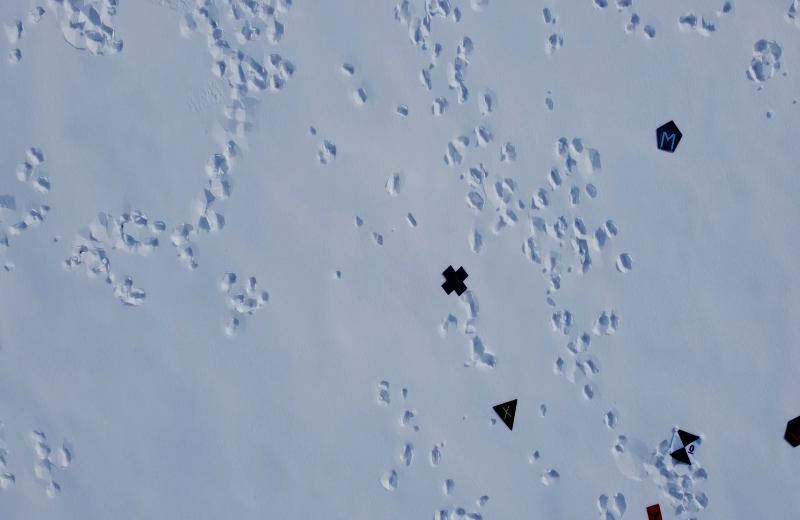Cross: (440, 261, 470, 300)
Hexagon: (781, 415, 800, 449)
Pentagon: (652, 116, 687, 156)
Rectangle: (644, 500, 664, 520)
Triangle: (492, 396, 522, 432)
